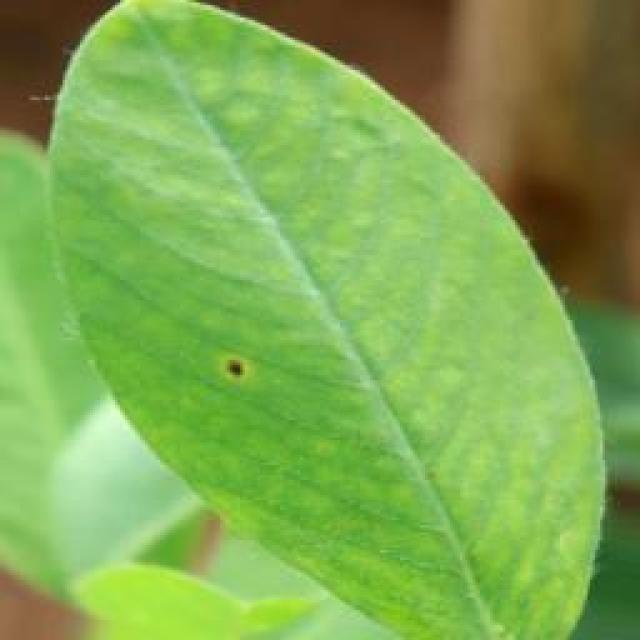Sigatoka: (217, 355, 280, 412)
